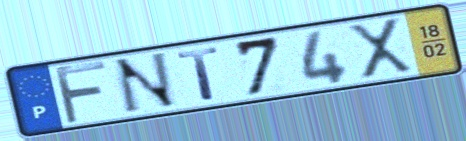4: (298, 28, 351, 86)
7: (234, 34, 283, 99)
F: (51, 59, 111, 127)
N: (110, 50, 182, 118)
T: (174, 45, 224, 103)
X: (344, 16, 417, 82)
